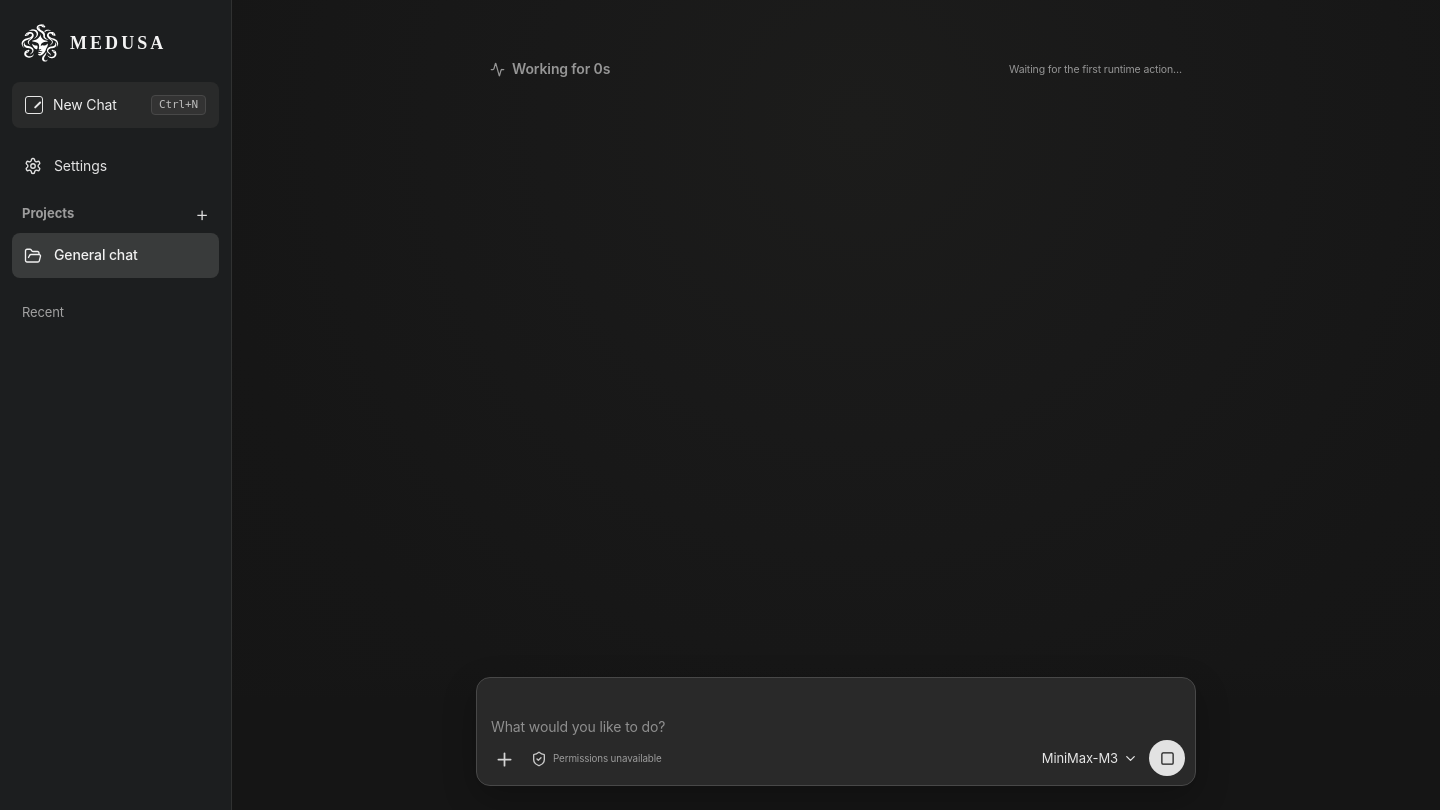
Test: uses a stop square while working and re-enables send for steering input
Expected: the button named "Stop active turn" is shown, [1149,740,1185,776]
Type "Steer the current turn" into the text box at (836, 724), box [487,713,1185,735]
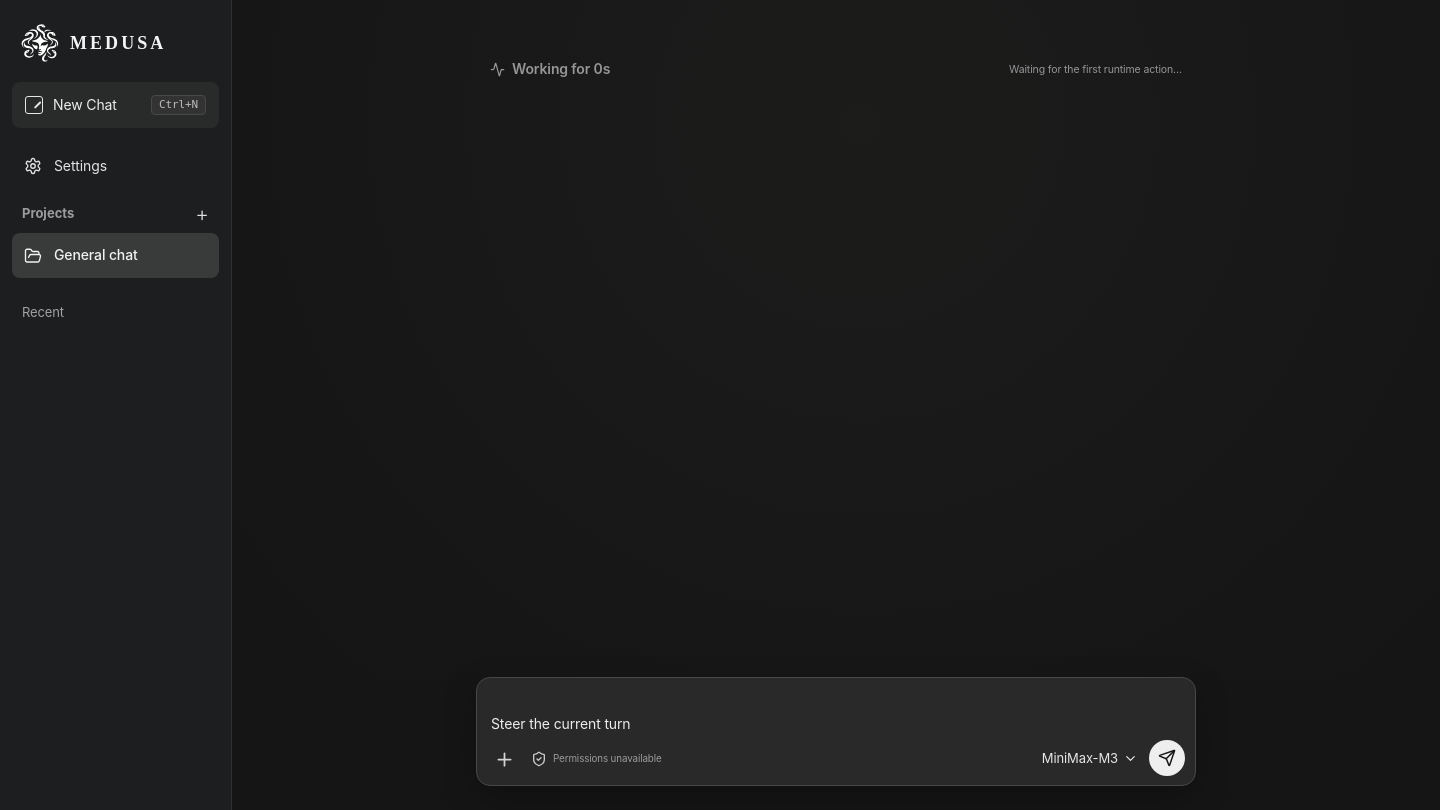
Click the button named "Send" at (1167, 758), box [1149,740,1185,776]
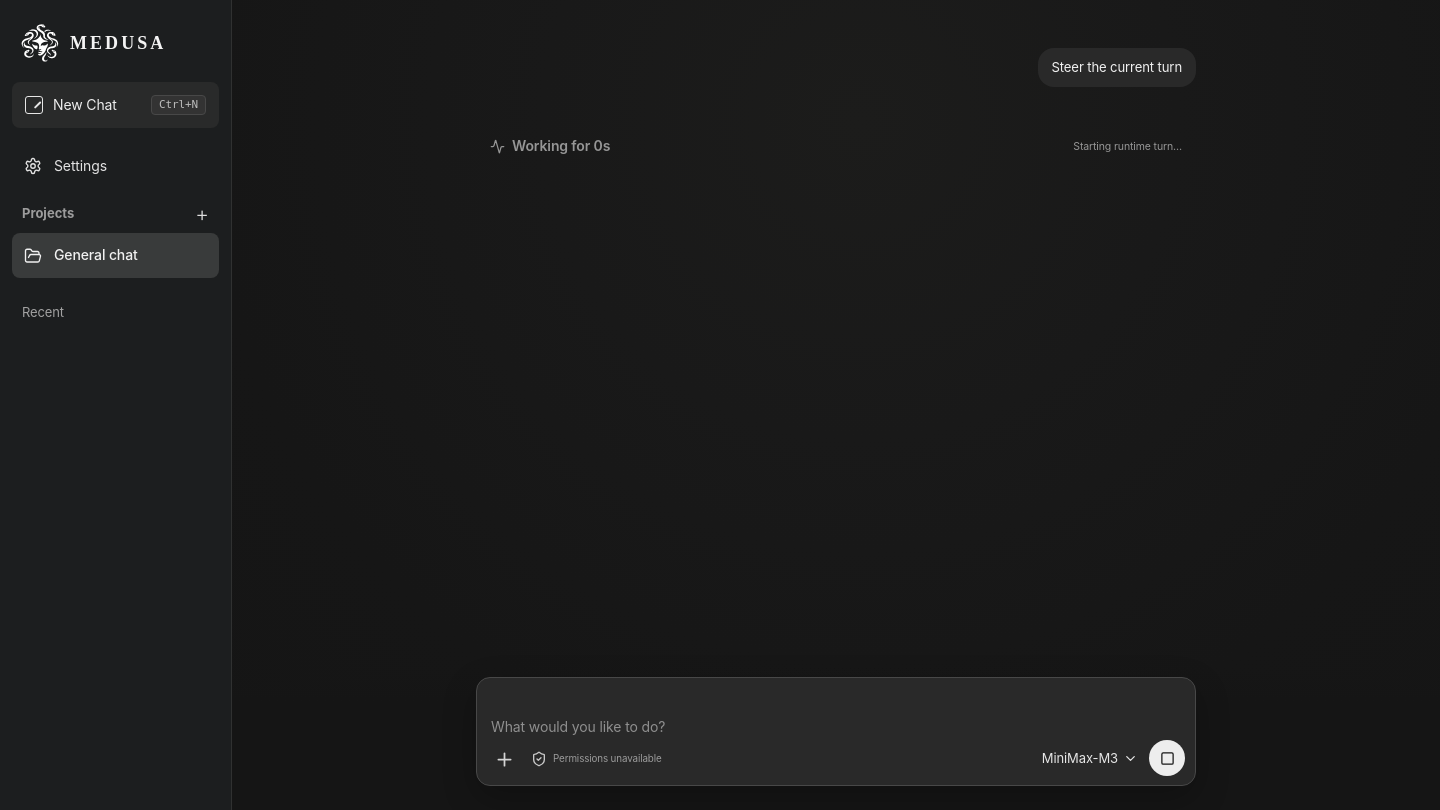
Expected: the button named "Stop active turn" is shown
Click the button named "Stop active turn" at (1167, 758), box [1149,740,1185,776]
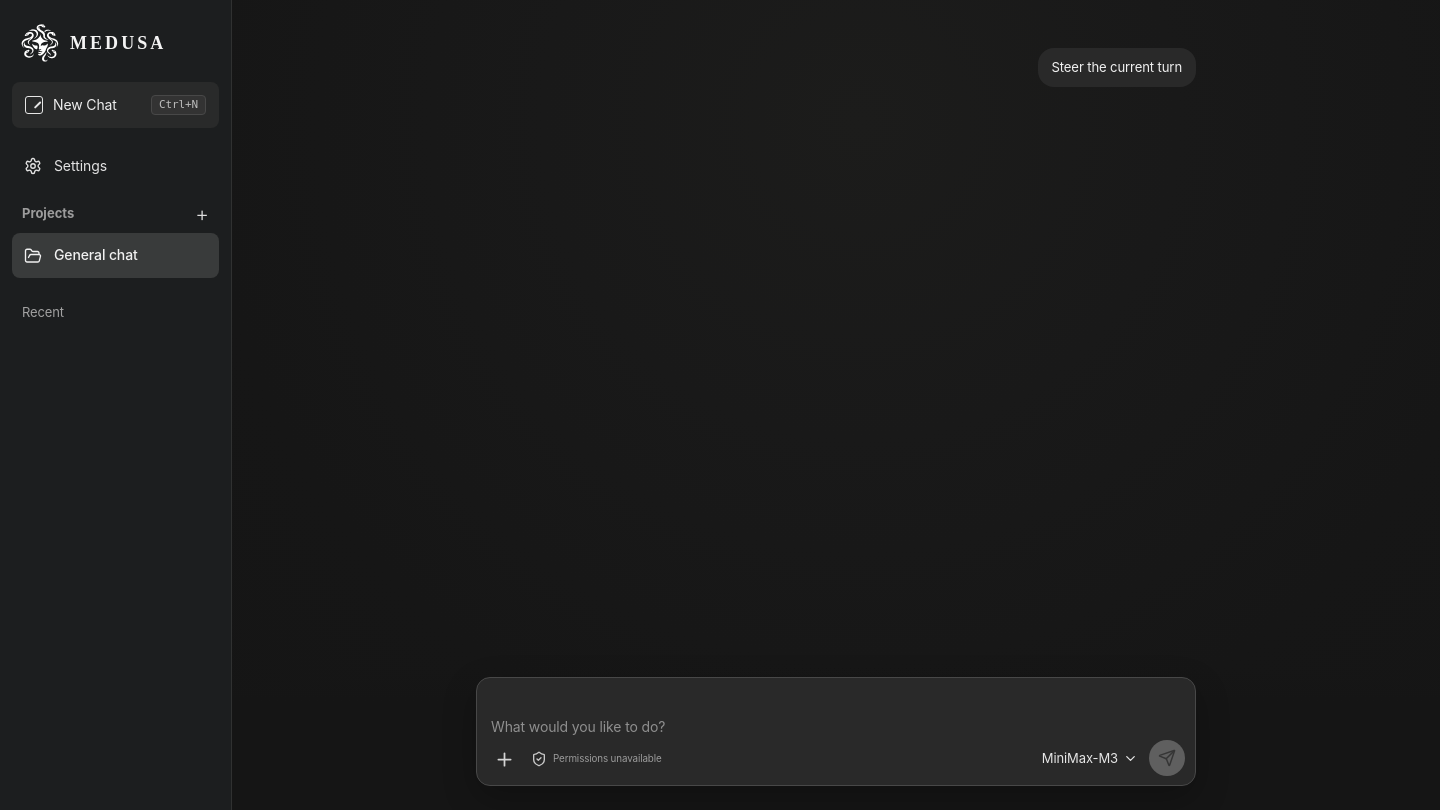
Expected: the button named "Send" is disabled, [1149,740,1185,776]
